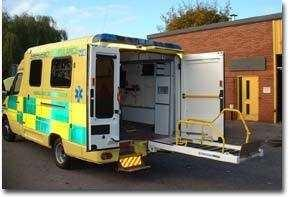car: (2, 32, 259, 174)
